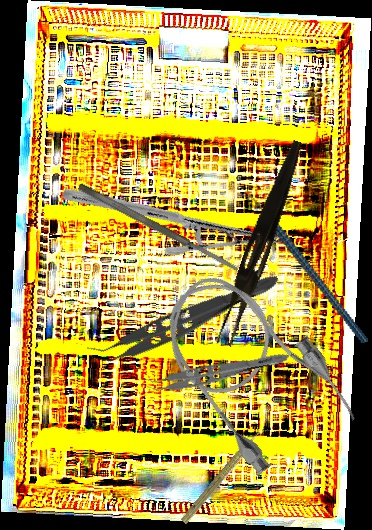Cannula: (139, 248, 367, 488)
Chopper: (235, 169, 369, 367)
Dressing Forceps: (215, 136, 306, 350)
Handpiece: (178, 421, 272, 528)
Needle Holder: (60, 132, 286, 302)
Spatula Surgical: (77, 181, 240, 275)
Tissue Forceps: (85, 256, 283, 377), (141, 340, 291, 400)
